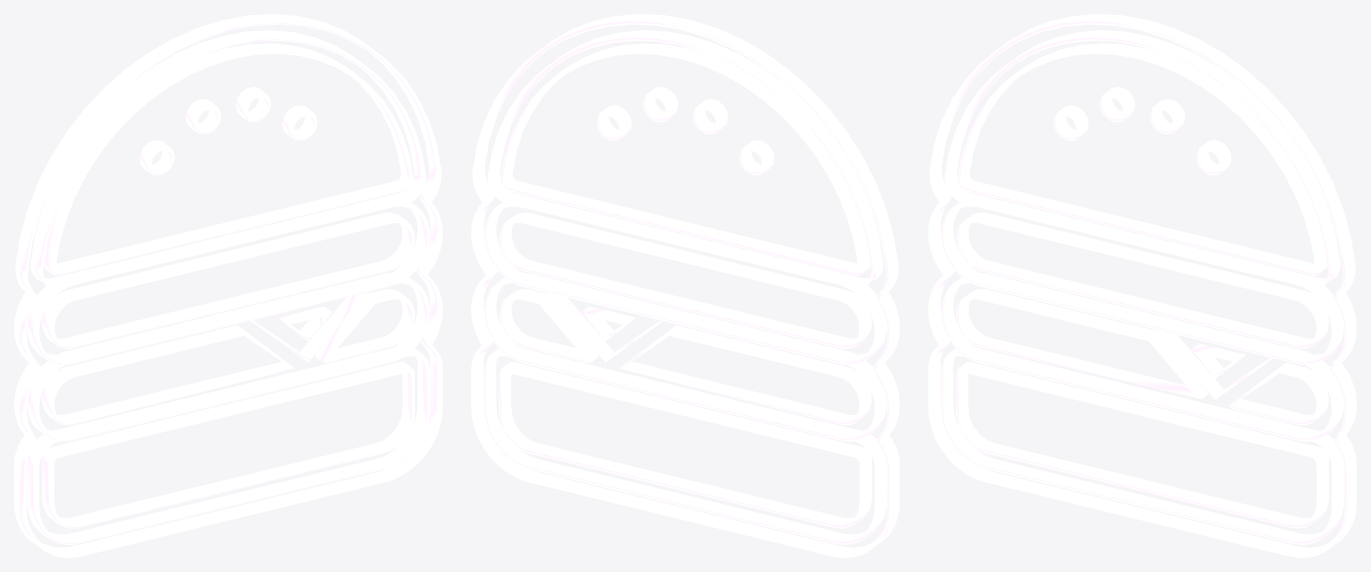
Rendered from burger.glb.
The picture shows the model from 3 angles, left to right: view 1: azimuth 30°, elevation 25°; view 2: azimuth 150°, elevation 25°; view 3: azimuth 330°, elevation 25°; orthographic projection.
Parts seen in each view (by area): view 1: Curve; view 2: Curve; view 3: Curve.
Part boxes in pixels (x1,y1,x2,y2): Curve: [14, 14, 442, 557]; Curve: [471, 14, 899, 557]; Curve: [928, 14, 1356, 557].
Bounding box in the file's own units: 1.36 × 1.52 × 0.0568.
